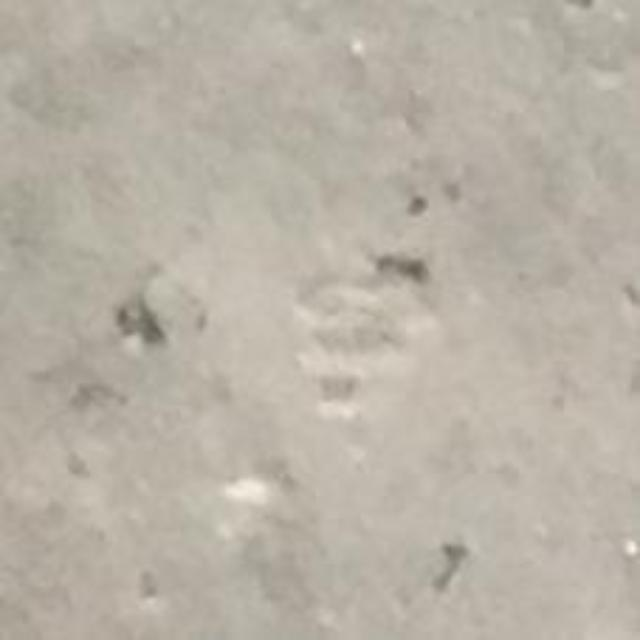peeling plaster: (297, 274, 431, 420)
